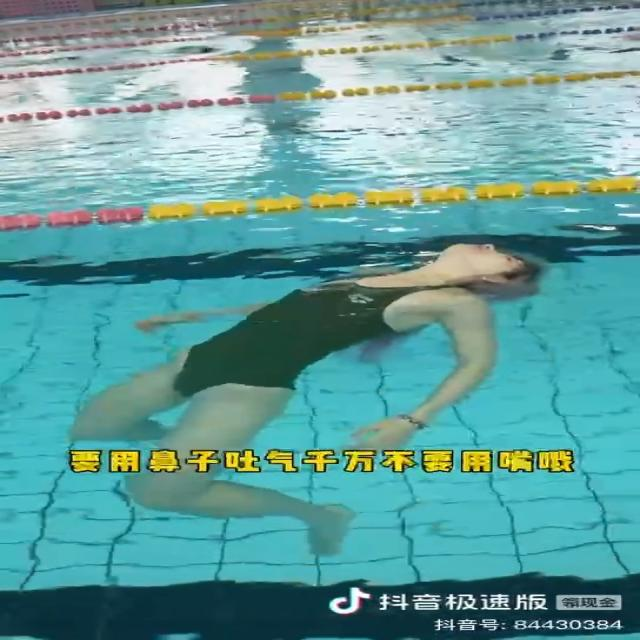Drowning: (72, 236, 548, 554)
